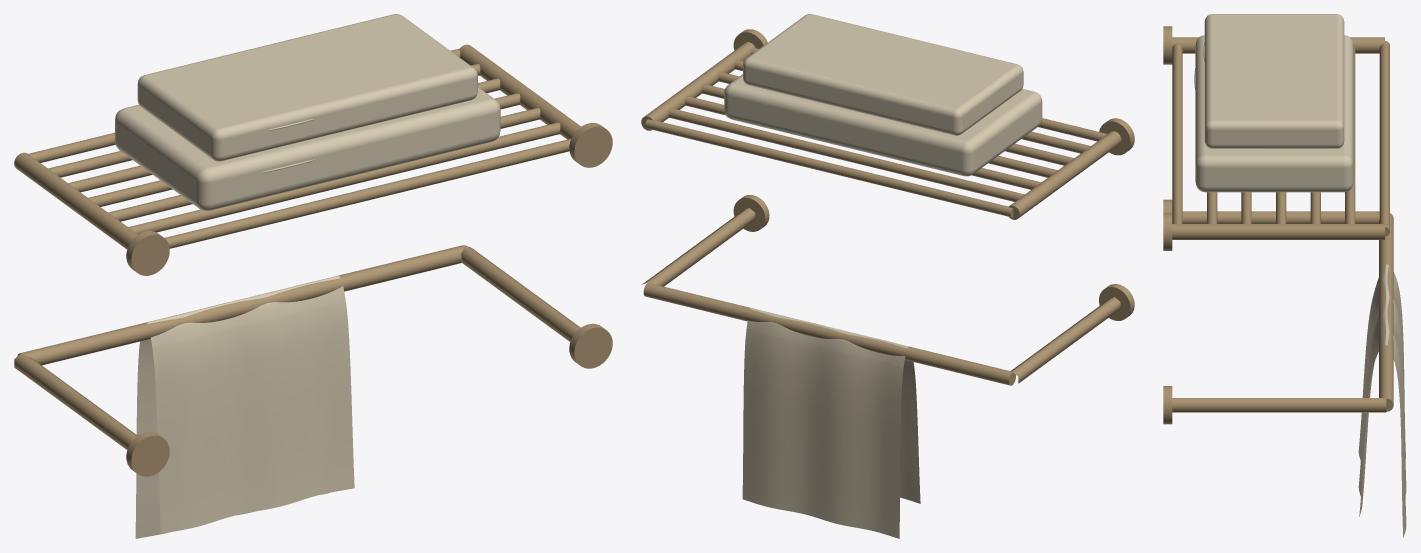
Rendered from bath-towel-shelf.glb.
3 renders of one model, left to right at view 1: azimuth 30°, elevation 25°; view 2: azimuth 150°, elevation 25°; view 3: azimuth 270°, elevation 25°, orthographic. The views are drawn at different scales.
Parts seen in each view (by area): view 1: linen_surfaces, bronze_surfaces; view 2: linen_surfaces, bronze_surfaces; view 3: linen_surfaces, bronze_surfaces.
Part boxes in pixels (x1=…): linen_surfaces: x1=115, y1=14, x2=500, y2=538; bronze_surfaces: x1=14, y1=44, x2=612, y2=476; linen_surfaces: x1=724, y1=14, x2=1042, y2=538; bronze_surfaces: x1=641, y1=29, x2=1134, y2=385; linen_surfaces: x1=1194, y1=14, x2=1406, y2=537; bronze_surfaces: x1=1163, y1=26, x2=1393, y2=424.
Bounding box in the file's own units: 0.652 × 0.647 × 0.3305.
